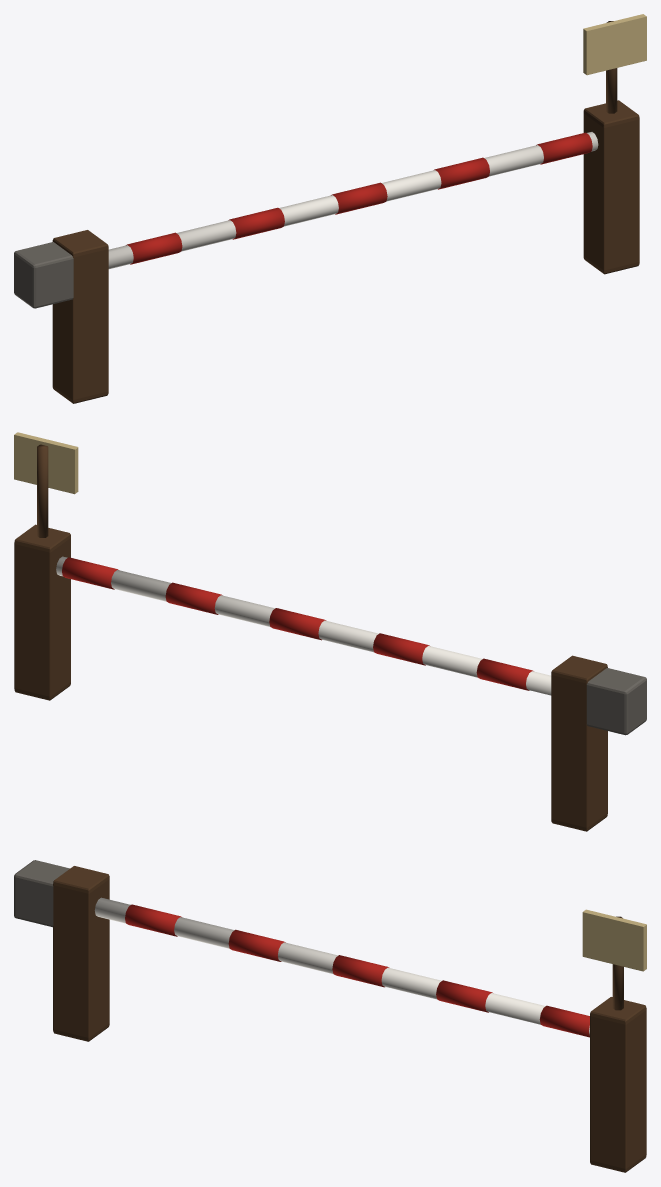
File: pass_schranke.glb
3 renders of one model, top to bottom at view 1: azimuth 30°, elevation 25°; view 2: azimuth 150°, elevation 25°; view 3: azimuth 330°, elevation 25°, orthographic.
Visible parts, largest first — view 1: Cube; view 2: Cube; view 3: Cube.
Boxes of the visible parts, x1,y1,x2,y2 form: Cube: (14,14,646,403); Cube: (14,432,646,831); Cube: (14,860,646,1172).
Size of the model in its own units: 5.12 by 1.92 by 0.3.
